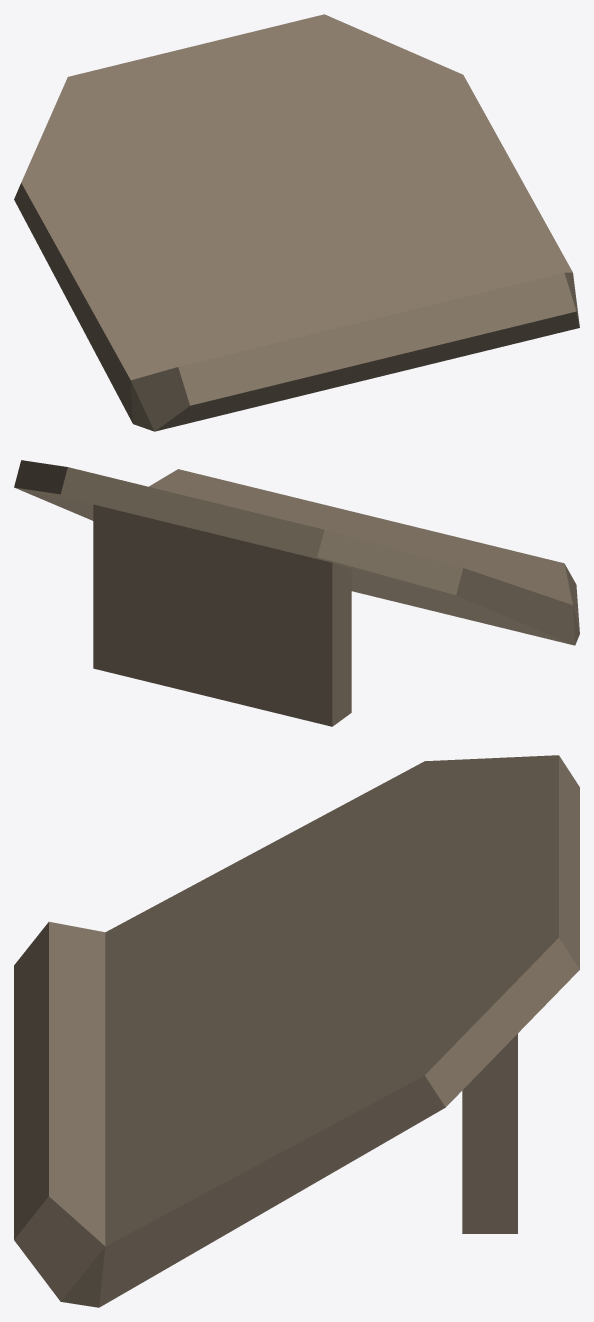
File: BookStand.fbx
The picture shows the model from 3 angles, top to bottom: view 1: azimuth 30°, elevation 25°; view 2: azimuth 150°, elevation 25°; view 3: azimuth 270°, elevation 25°; orthographic projection. The views are drawn at different scales.
Parts seen in each view (by area): view 1: BookStand; view 2: BookStand; view 3: BookStand.
Boxes of the visible parts, <box> form: BookStand: <box>14,14,579,431</box>; BookStand: <box>14,460,579,726</box>; BookStand: <box>14,755,579,1307</box>.
Size of the model in its own units: 113 by 51.08 by 86.09.
